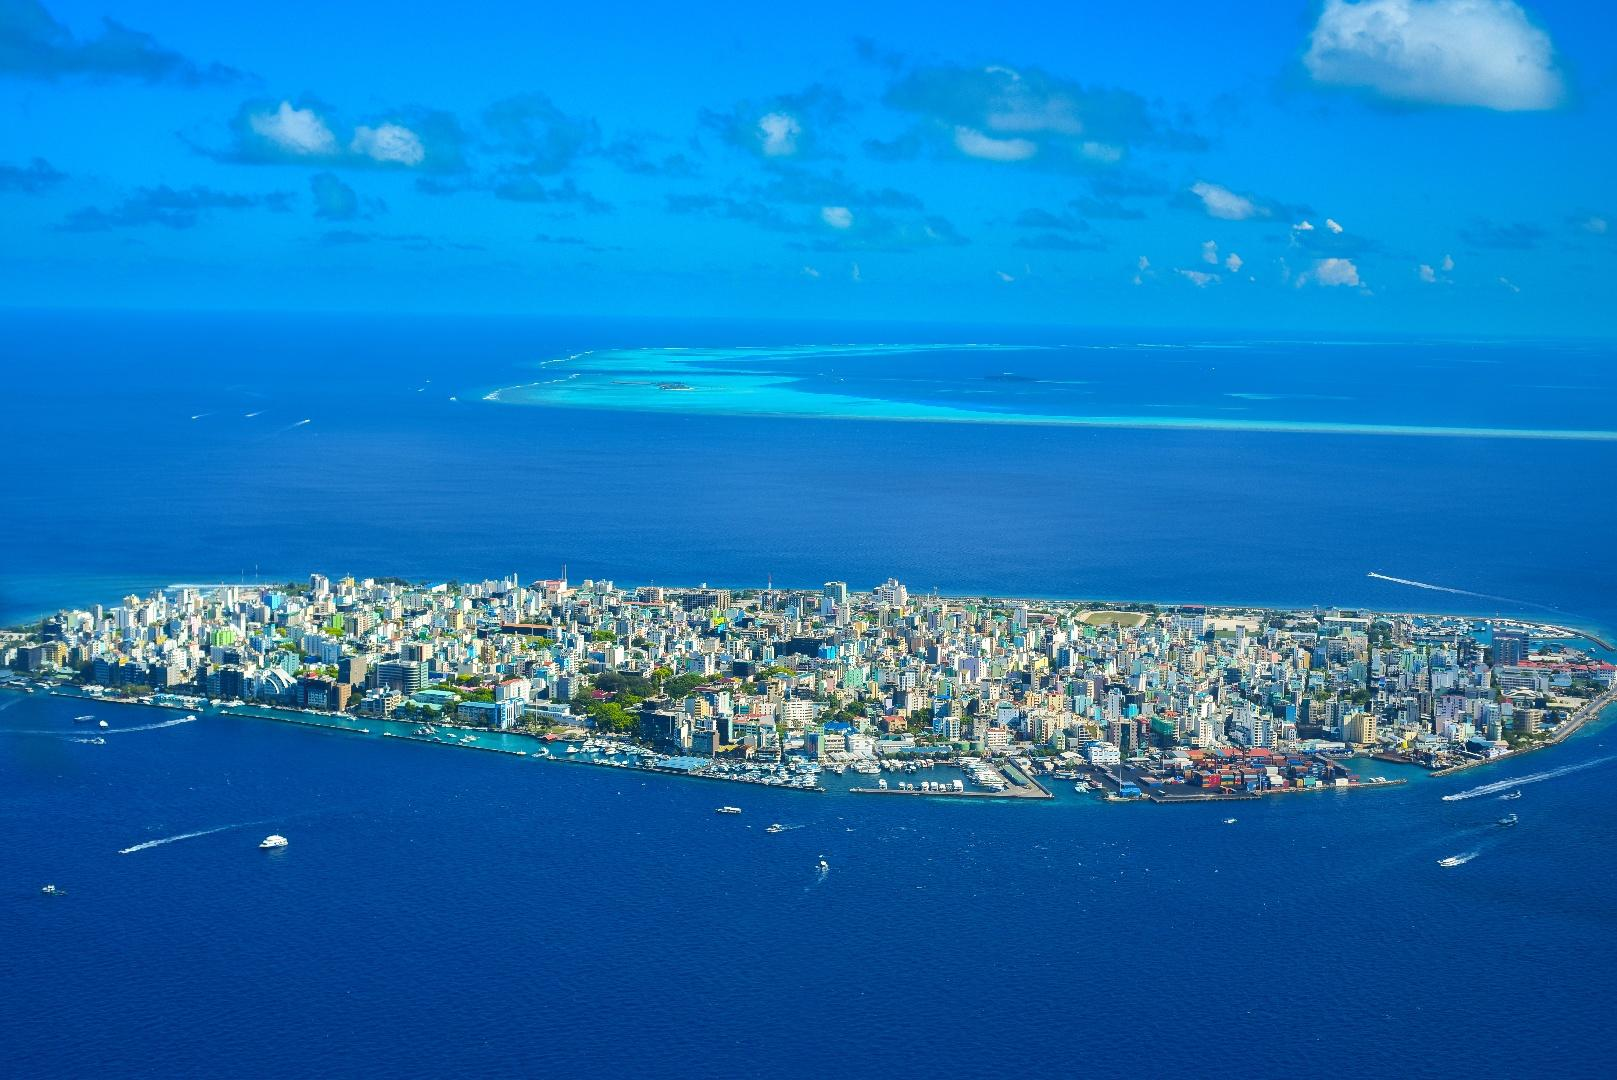shoes: (1603, 1041, 1617, 1080)
